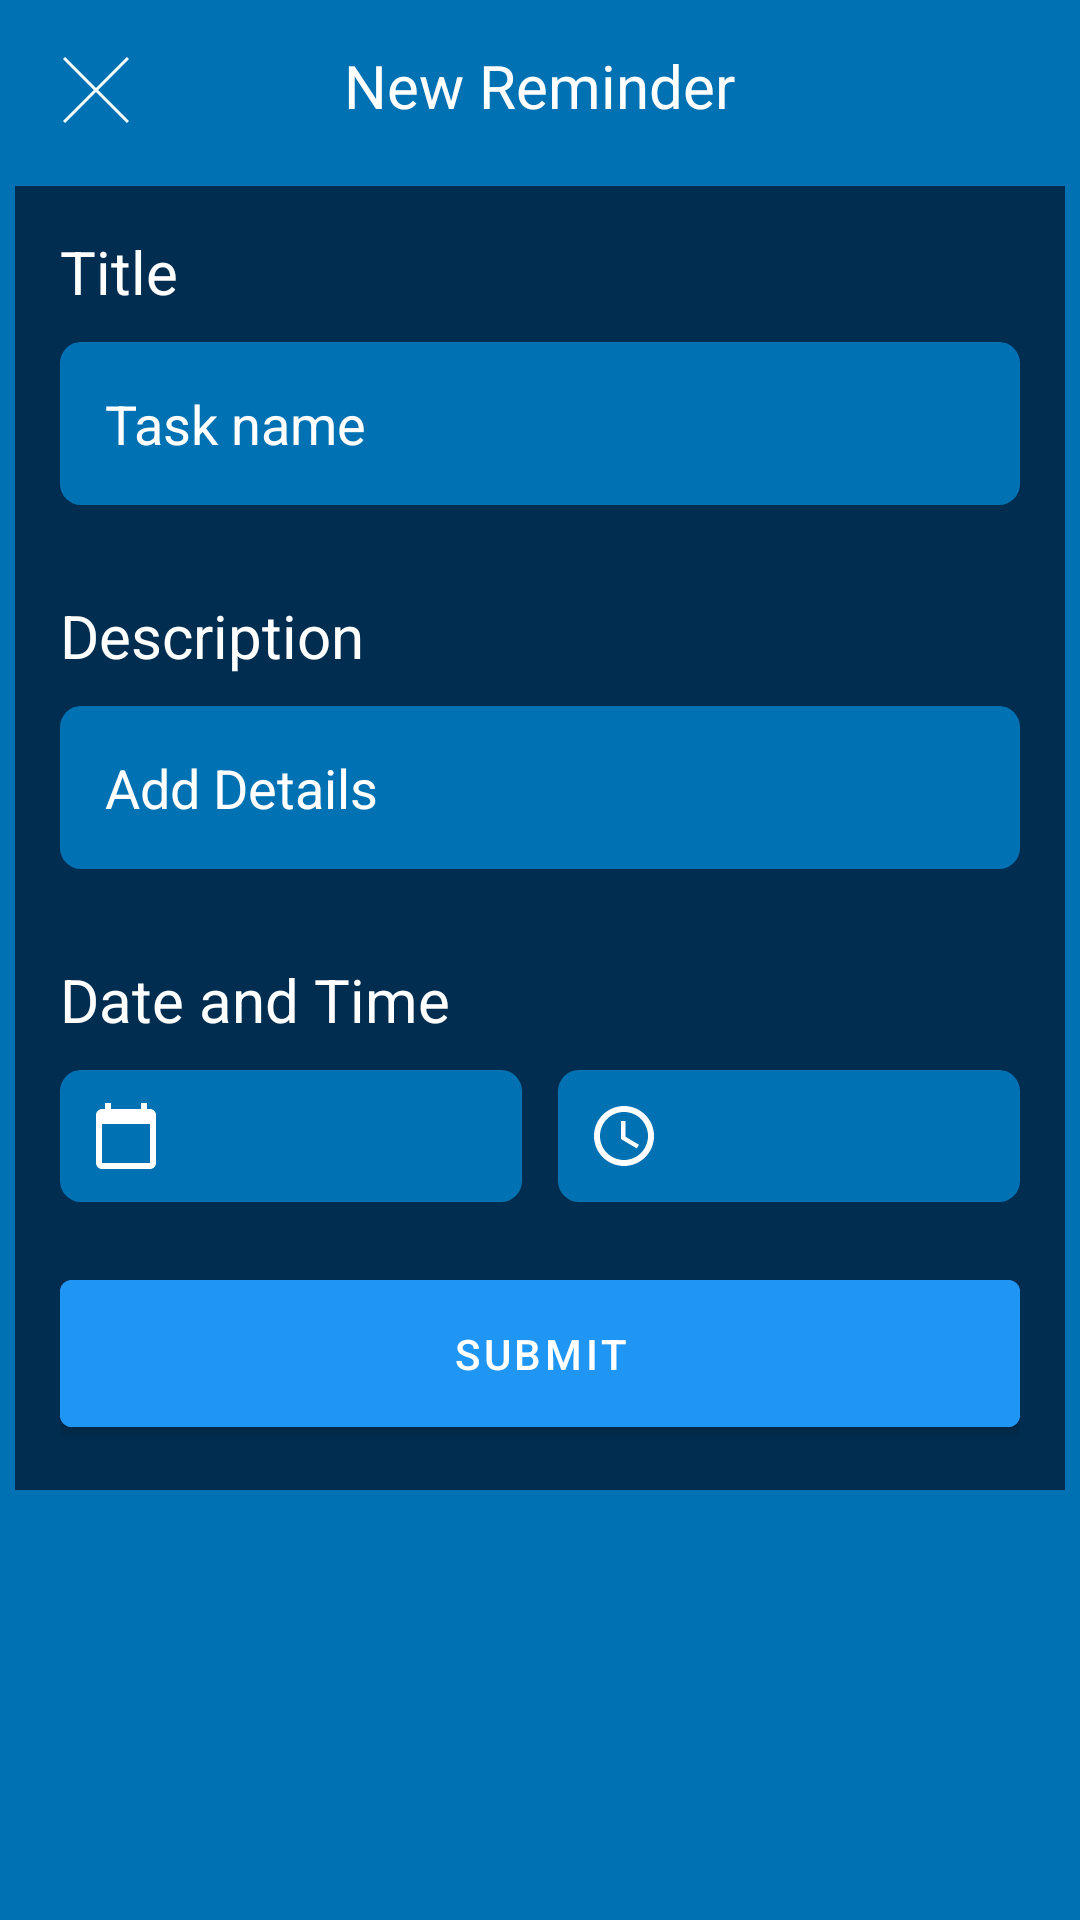

Named icons in this screenshot (1080px x 1920px) and their centers, [x,y]:
cross: [96,90]
